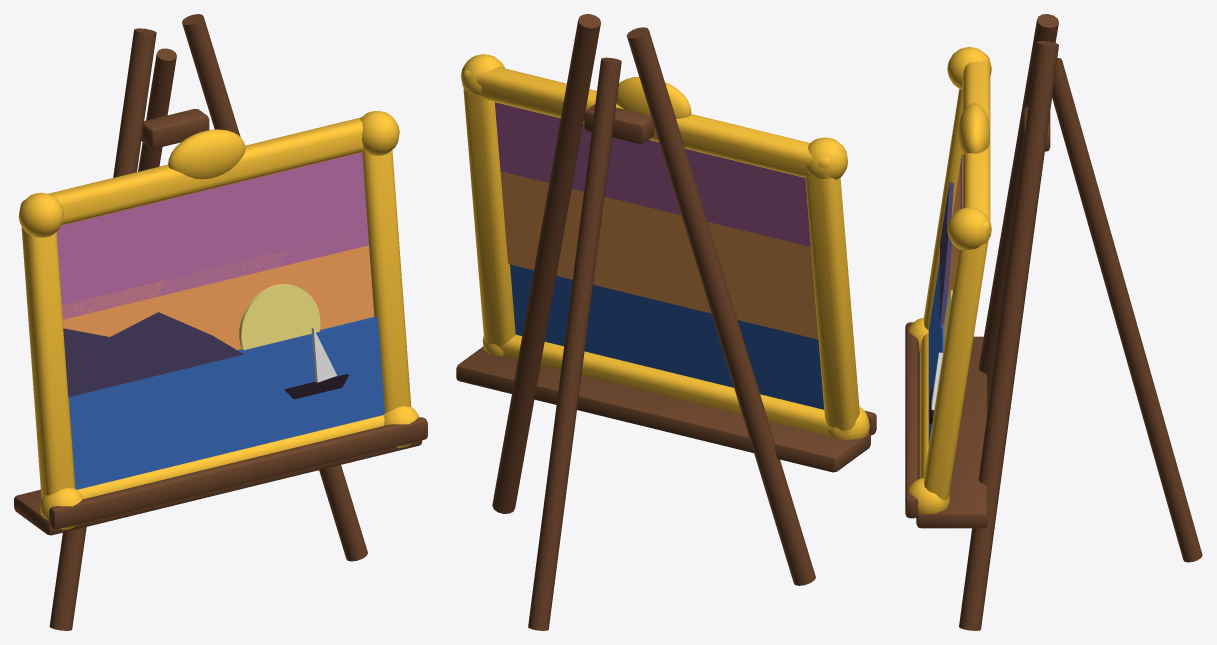
The model's file is Painting.fbx.
The picture shows the model from 3 angles, left to right: view 1: azimuth 30°, elevation 25°; view 2: azimuth 150°, elevation 25°; view 3: azimuth 270°, elevation 25°; orthographic projection. The views are drawn at different scales.
Parts seen in each view (by area): view 1: Gold, SkyTop, Sea, Easel, Sky, Hills, Sun, Boat, White; view 2: Easel, Gold, Sky, Sea, SkyTop; view 3: Easel, Gold, Sea, Hills, Sky.
Part boxes in pixels (<box>): Gold: <box>18,111,419,529</box>; SkyTop: <box>56,152,368,319</box>; Sea: <box>68,317,384,489</box>; Easel: <box>14,14,427,630</box>; Sky: <box>62,239,374,350</box>; Hills: <box>63,312,243,397</box>; Sun: <box>239,284,320,349</box>; Boat: <box>284,374,348,399</box>; White: <box>311,328,336,382</box>; Easel: <box>456,14,876,630</box>; Gold: <box>461,54,869,439</box>; Sky: <box>500,171,818,339</box>; Sea: <box>510,264,824,409</box>; SkyTop: <box>494,102,810,246</box>; Easel: <box>905,14,1202,630</box>; Gold: <box>908,47,991,517</box>; Sea: <box>928,260,947,445</box>; Hills: <box>940,181,953,328</box>; Sky: <box>948,165,960,298</box>.
Size of the model in its own units: 190 by 263 by 133.
